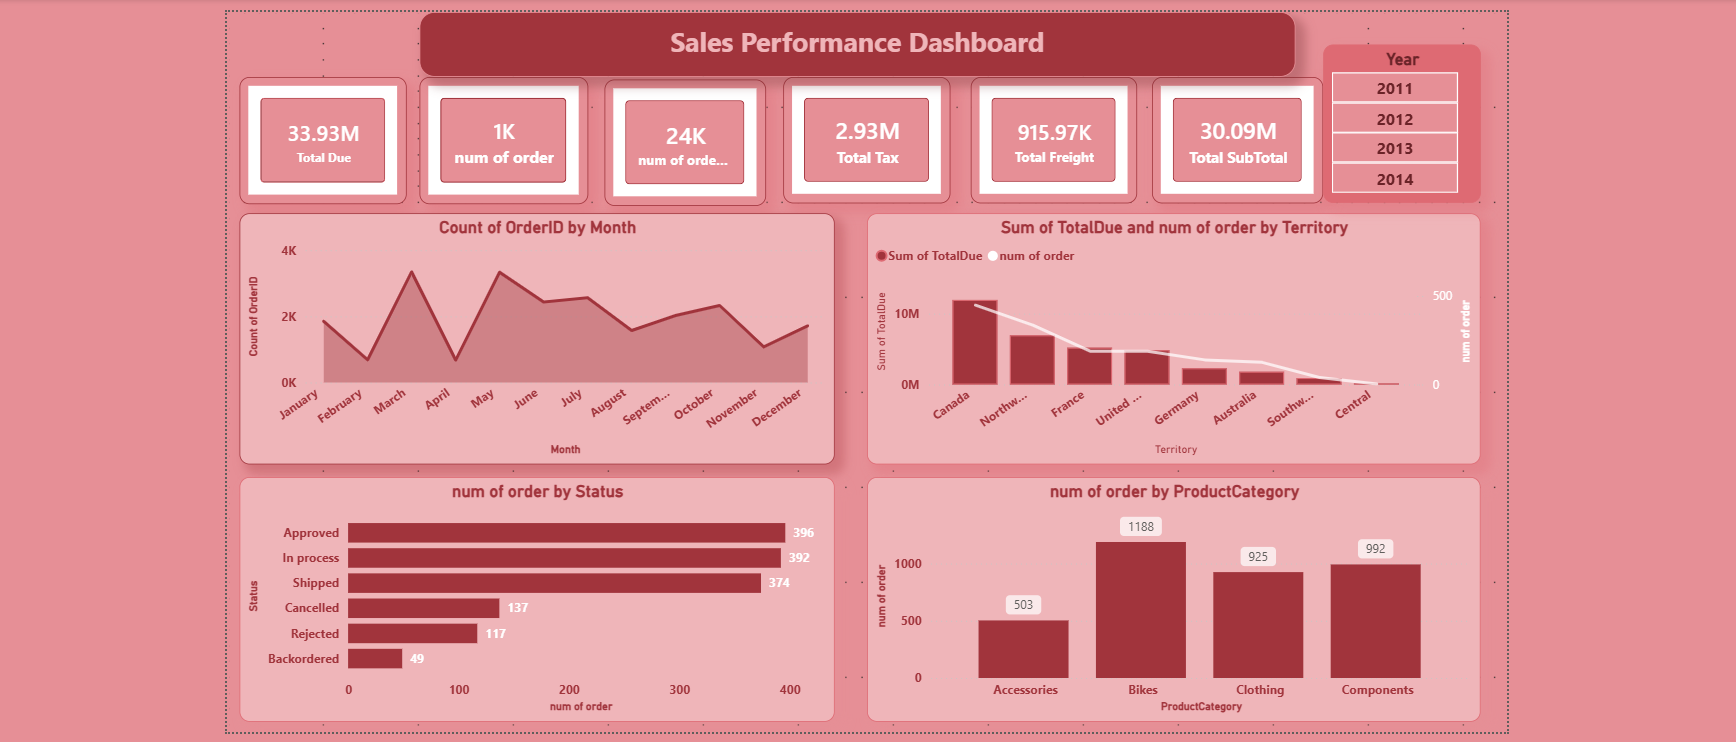

What the dashboard file says about the page in this screenshot:
{"tool":"powerbi","page":{"name":"Page 1","canvas":[1280,720],"ordinal":0},"visuals":[{"type":"cardVisual","fields":{"Data":["Sum(Fact Sales.TotalDue)"]},"box":[12.3,65.2,190.8,126.8],"z":0},{"type":"cardVisual","fields":{"Data":["Fact Sales.num of order"]},"box":[212.9,65.2,194.5,126.8],"z":1000},{"type":"cardVisual","fields":{"Data":["Fact Sales.num of order detail"]},"box":[418.5,66.5,199.4,125.5],"z":2000},{"type":"cardVisual","fields":{"Data":["Fact Sales.Total Tax"]},"box":[630.2,66.5,199.4,125.5],"z":3000},{"type":"cardVisual","fields":{"Data":["Fact Sales.Total Freight"]},"box":[841.8,66.5,194.5,125.5],"z":4000},{"type":"cardVisual","fields":{"Data":["Fact Sales.Total SubTotal"]},"box":[1049.8,66.5,200.6,125.5],"z":5000},{"type":"stackedAreaChart","fields":{"Category":["Fact Sales.OrderDate.Variation.Date Hierarchy.Year","Fact Sales.OrderDate.Variation.Date Hierarchy.Quarter","Fact Sales.OrderDate.Variation.Date Hierarchy.Month","Fact Sales.OrderDate.Variation.Date Hierarchy.Day"],"Y":["CountNonNull(Fact Sales.OrderID)"]},"box":[12.3,201.8,605.5,251.1],"z":6000},{"type":"clusteredBarChart","fields":{"Category":["Status Dim.Status"],"Y":["Fact Sales.num of order"]},"box":[12.3,465.2,605.5,244.9],"z":7000},{"type":"donutChart","fields":{"Category":["Territory Dim.Territory"],"Y":["Fact Sales.Total Due","Fact Sales.num of order"]},"box":[630.2,201.8,635.1,251.1],"z":8000},{"type":"lineClusteredColumnComboChart","fields":{"Category":["Product Dim.ProductID Hierarchy.Product","Product Dim.ProductID Hierarchy.ProductSubCategory","Product Dim.ProductID Hierarchy.ProductCategory"],"Y":["Fact Sales.num of order"]},"box":[630.2,465.2,636.3,244.9],"z":9000},{"type":"textbox","box":[192,0,875.8,65],"z":10000}]}

Visuals, with their boxes on the page's 1280x720 design canvas (x1, y1, x2, y2). These are canvas units, not pixel positions in the 1736x742 screenshot, which may show the page scaled, cropped or inside an application window:
cardVisual - Sum(Fact Sales.TotalDue): bbox=(12, 65, 203, 192)
cardVisual - Fact Sales.num of order: bbox=(213, 65, 407, 192)
cardVisual - Fact Sales.num of order detail: bbox=(418, 66, 618, 192)
cardVisual - Fact Sales.Total Tax: bbox=(630, 66, 830, 192)
cardVisual - Fact Sales.Total Freight: bbox=(842, 66, 1036, 192)
cardVisual - Fact Sales.Total SubTotal: bbox=(1050, 66, 1250, 192)
stackedAreaChart - Fact Sales.OrderDate.Variation.Date Hierarchy.Year x Fact Sales.OrderDate.Variation.Date Hierarchy.Quarter: bbox=(12, 202, 618, 453)
clusteredBarChart - Status Dim.Status x Fact Sales.num of order: bbox=(12, 465, 618, 710)
donutChart - Territory Dim.Territory x Fact Sales.Total Due: bbox=(630, 202, 1265, 453)
lineClusteredColumnComboChart - Product Dim.ProductID Hierarchy.Product x Product Dim.ProductID Hierarchy.ProductSubCategory: bbox=(630, 465, 1266, 710)
textbox: bbox=(192, 0, 1068, 65)
